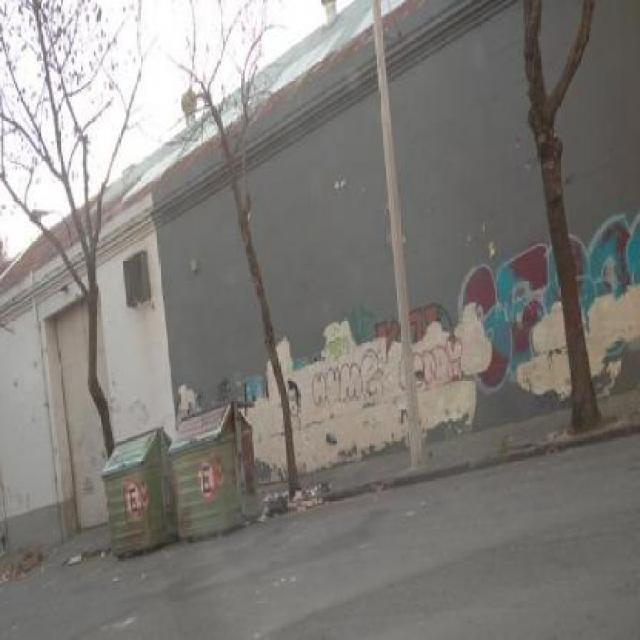garbage: (95, 406, 280, 570), (0, 530, 53, 586), (266, 482, 337, 519)
